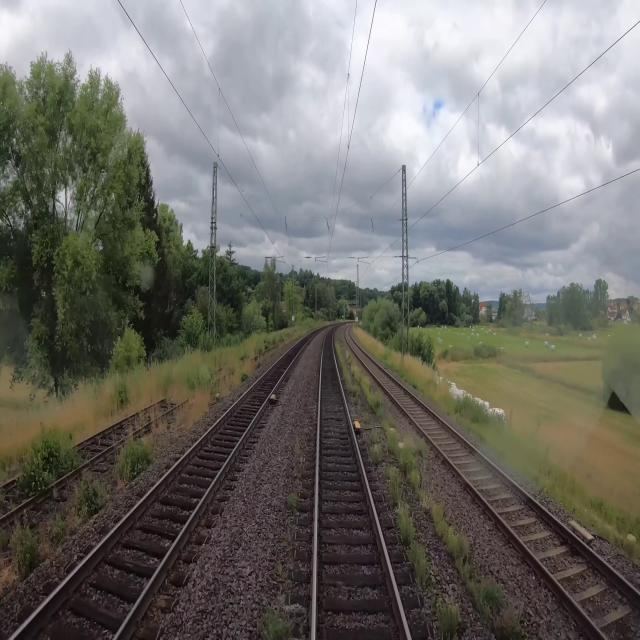Plant: (345, 351, 540, 639), (386, 467, 465, 639), (71, 435, 156, 521), (257, 594, 292, 639), (334, 343, 361, 397), (368, 426, 386, 468)
